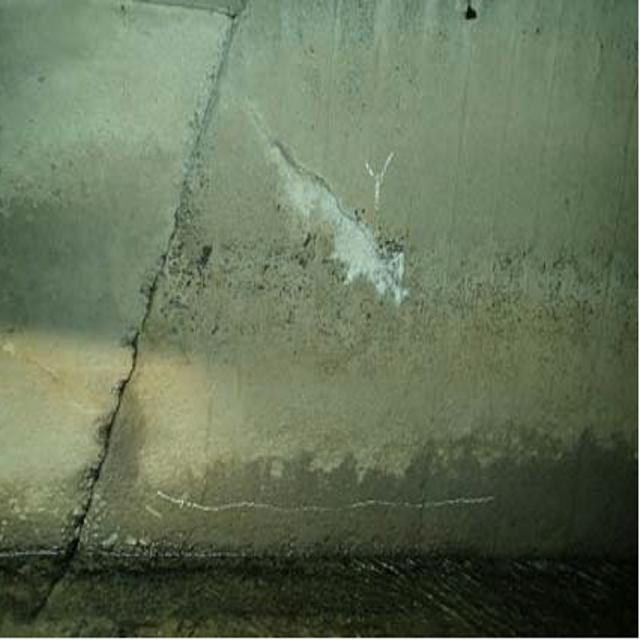freelime: (250, 109, 420, 304)
